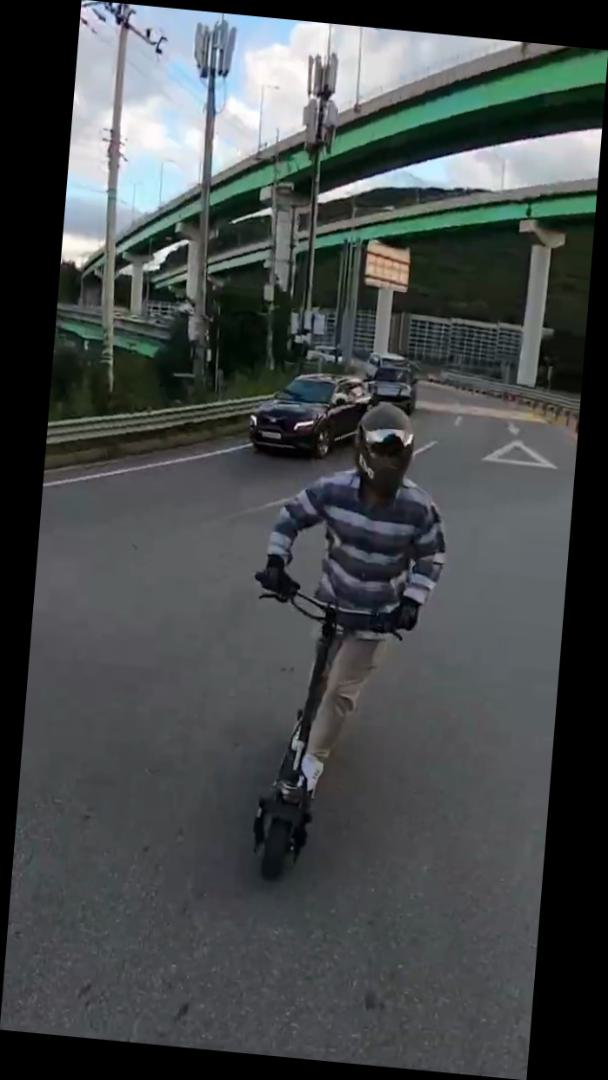helmet: (231, 388, 462, 895)
